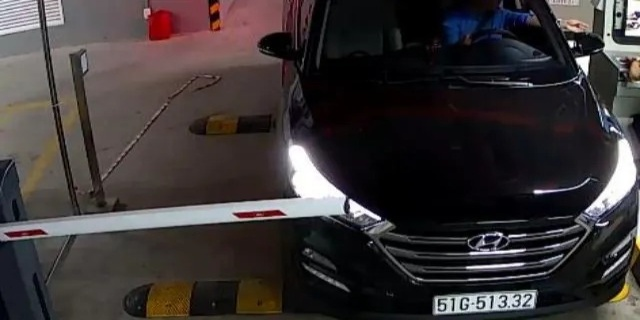bien_so: (433, 291, 537, 314)
